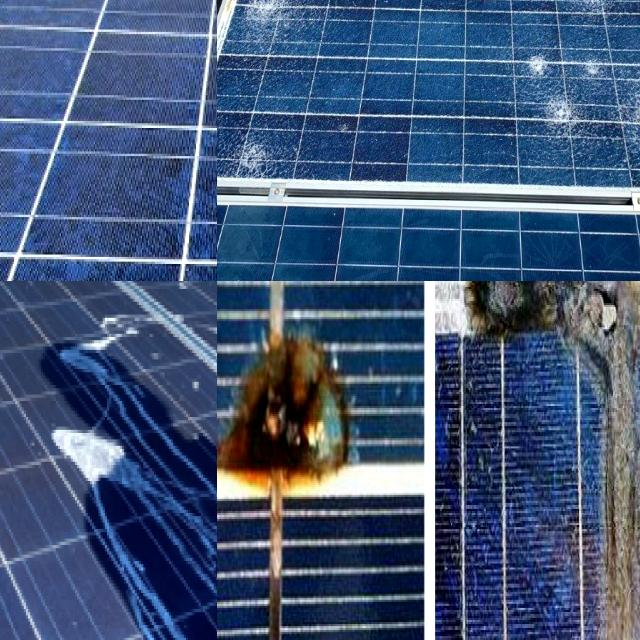bird: (56, 414, 162, 544), (53, 326, 145, 394), (150, 281, 202, 313), (0, 281, 42, 316), (0, 281, 39, 313), (0, 281, 19, 317)
hotspot: (217, 114, 279, 200), (517, 0, 612, 42), (519, 43, 620, 78), (229, 0, 283, 51), (268, 0, 336, 39), (538, 94, 590, 138), (418, 0, 506, 25), (517, 0, 589, 20), (628, 82, 640, 182), (364, 0, 402, 21), (217, 0, 237, 34)
shadow: (449, 281, 640, 640), (217, 302, 378, 504)
